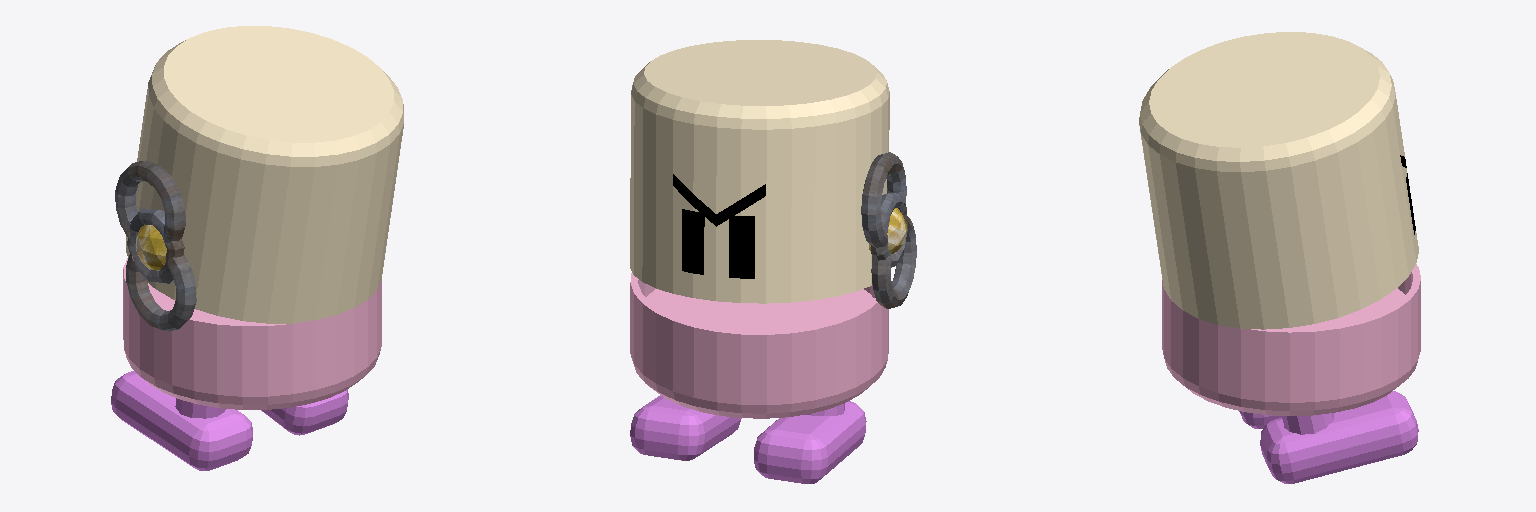
3 renders of one model, left to right at view 1: azimuth 30°, elevation 25°; view 2: azimuth 150°, elevation 25°; view 3: azimuth 270°, elevation 25°, orthographic.
Parts seen in each view (by area): view 1: Head, Jaw, WindupKey, LeftLeg, RightLeg; view 2: Head, Jaw, LeftLeg, WindupKey, RightLeg; view 3: Head, Jaw, RightLeg.
Boxes of the visible parts, x1,y1,x2,y2 form: Head: [126, 26, 403, 323]; Jaw: [123, 258, 381, 409]; WindupKey: [115, 161, 196, 331]; LeftLeg: [111, 371, 252, 470]; RightLeg: [261, 389, 348, 435]; Head: [630, 40, 889, 303]; Jaw: [630, 273, 888, 418]; LeftLeg: [754, 401, 866, 483]; WindupKey: [861, 152, 916, 308]; RightLeg: [630, 395, 741, 460]; Head: [1139, 32, 1418, 329]; Jaw: [1162, 264, 1420, 415]; RightLeg: [1260, 391, 1418, 483].
Size of the model in its own units: 112 by 161 by 109.
6 materials, 2 textured.